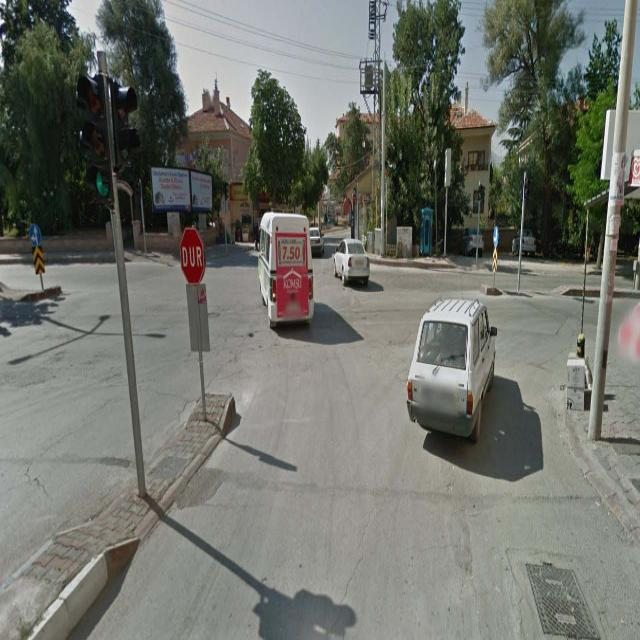dur: (181, 228, 204, 284)
ilerisol: (30, 226, 40, 244)
yesil: (78, 76, 109, 199)
